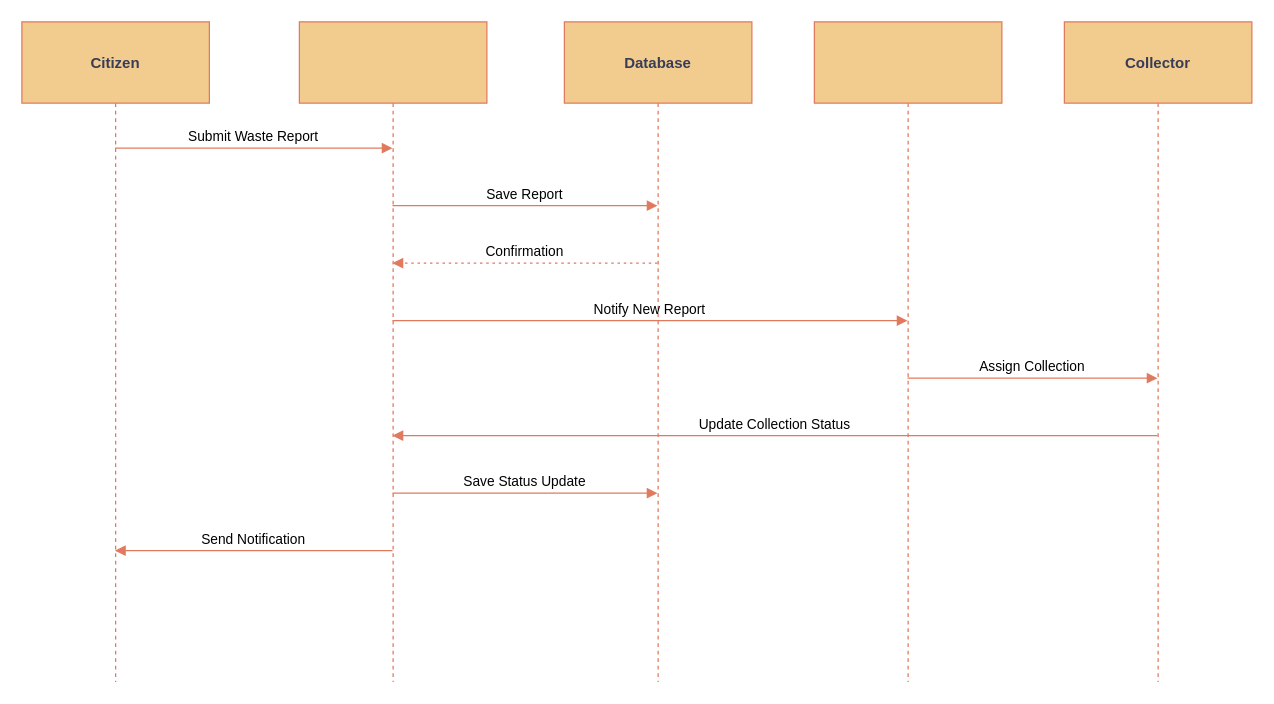
The diagram is 1274 pixels wide and 704 high, and some of its shapes have lost their labels. Here are the shapes that lost their labels. From the top down, the box of each, then its label:
(298, 21, 487, 682): System
(813, 21, 1002, 682): Admin
